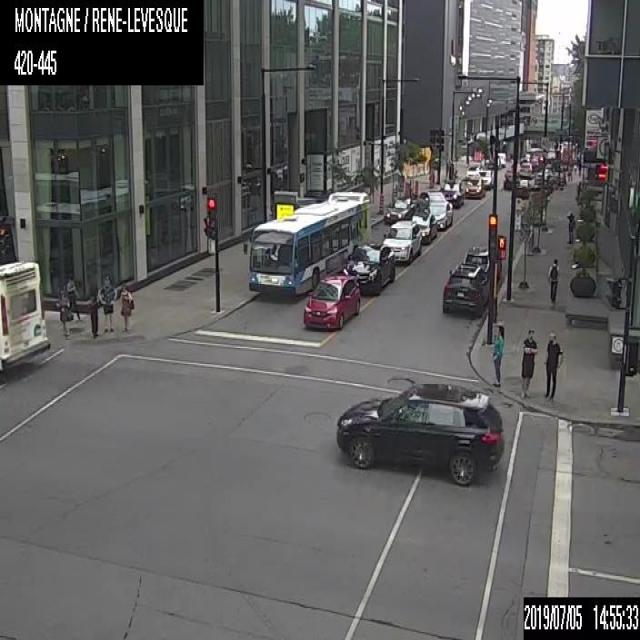bus: (246, 190, 369, 295), (0, 257, 52, 387)
construction: (379, 189, 386, 215), (413, 179, 418, 197), (391, 185, 396, 201), (404, 181, 409, 197)
pedestrian: (542, 331, 562, 397), (520, 326, 538, 398), (100, 273, 116, 336), (490, 320, 505, 387), (56, 286, 74, 341), (117, 282, 132, 332), (546, 256, 559, 305), (88, 288, 100, 339), (566, 211, 574, 244)
vehicle: (334, 376, 504, 489), (302, 274, 359, 330), (342, 242, 397, 297), (441, 263, 490, 316), (380, 219, 423, 265), (462, 245, 501, 282), (410, 212, 438, 244), (422, 201, 452, 229), (384, 196, 414, 222), (440, 181, 465, 204), (463, 176, 484, 197), (533, 167, 552, 185), (503, 170, 519, 190), (514, 178, 530, 197), (465, 162, 483, 178), (477, 168, 492, 187), (519, 162, 531, 178)
